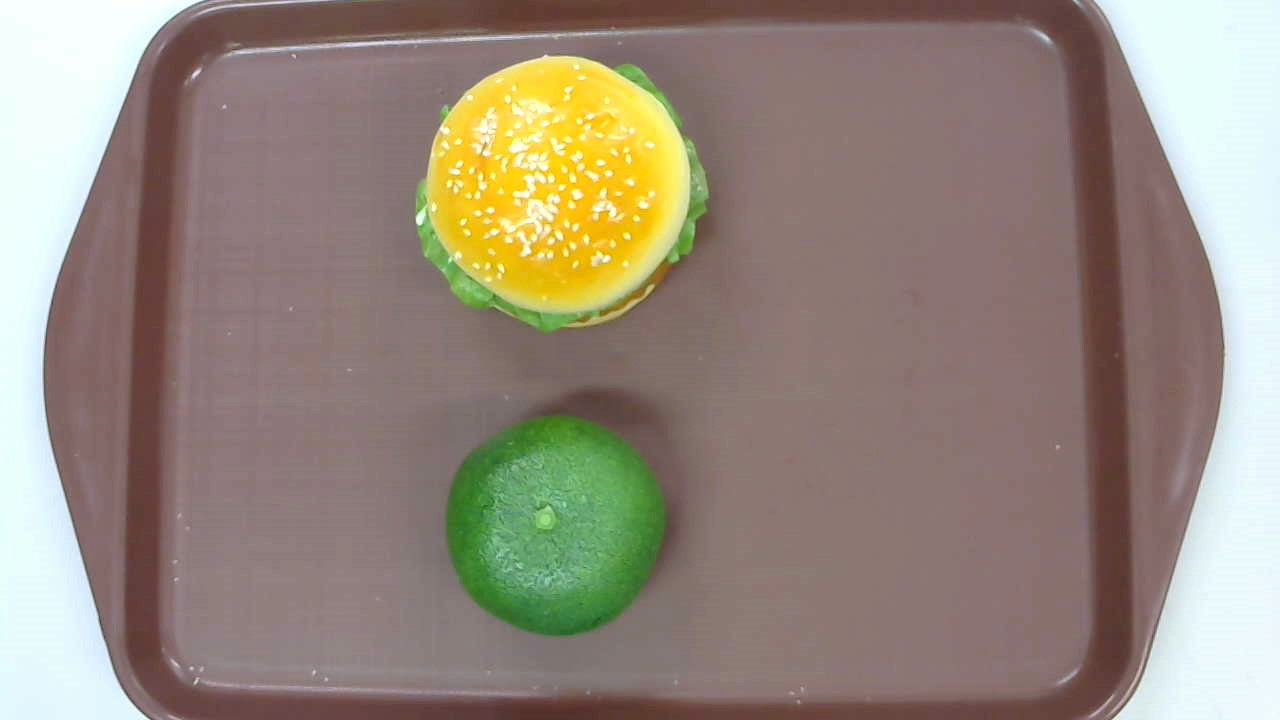green orange: (446, 414, 668, 634)
hamburger: (413, 53, 710, 338)
